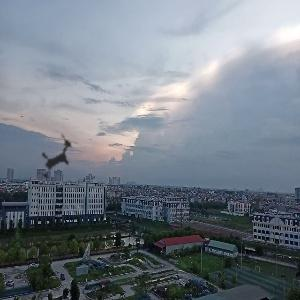drone: (15, 121, 96, 202)
